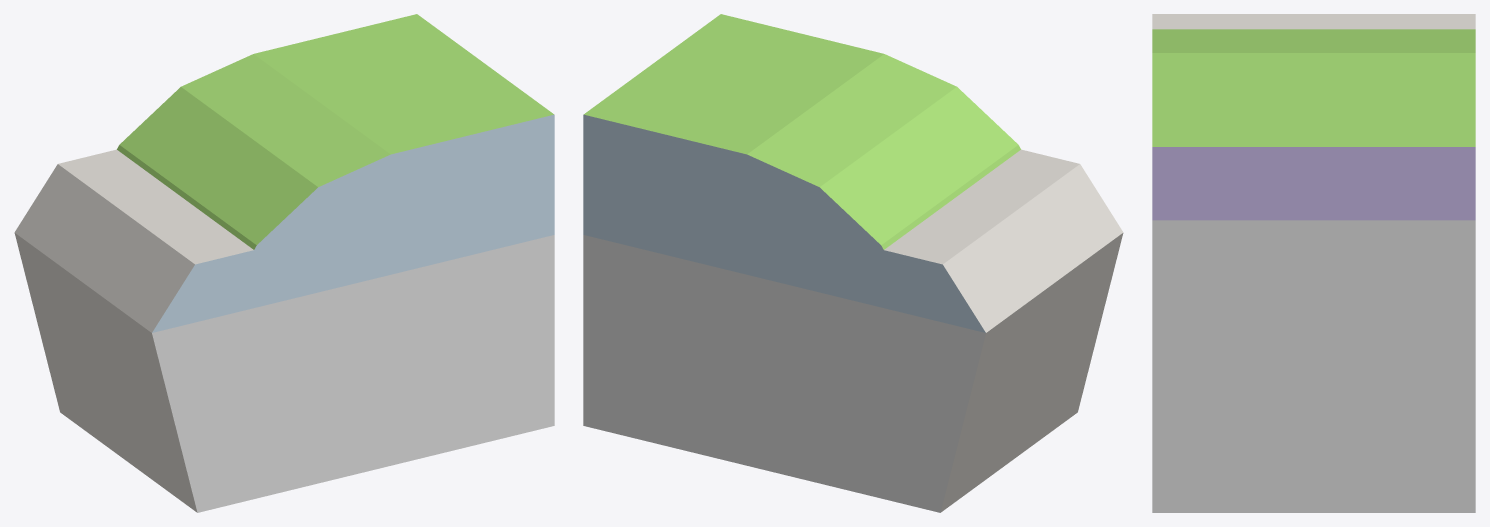
The model's file is Waterfall_Center_Top_Terrain_1x3.glb.
3 views of the same model, side by side, from view 1: azimuth 30°, elevation 25°; view 2: azimuth 150°, elevation 25°; view 3: azimuth 270°, elevation 25° (orthographic). The views are drawn at different scales.
Visible parts, largest first — view 1: Waterfall_Center_Top_Terrain_1x3; view 2: Waterfall_Center_Top_Terrain_1x3; view 3: Waterfall_Center_Top_Terrain_1x3.
Boxes of the visible parts, x1,y1,x2,y2 form: Waterfall_Center_Top_Terrain_1x3: (14,14,554,512); Waterfall_Center_Top_Terrain_1x3: (583,14,1123,512); Waterfall_Center_Top_Terrain_1x3: (1152,14,1475,512).
Bounding box in the file's own units: 169 × 125 × 100.
